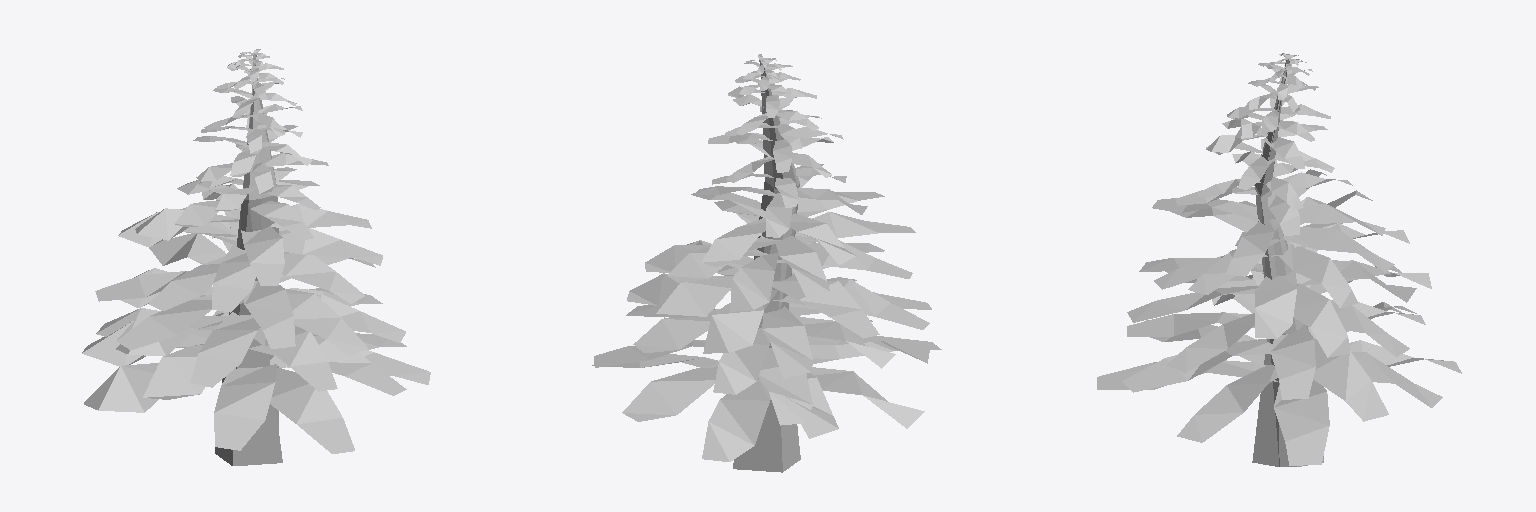
The model's file is tree2.obj.
The picture shows the model from 3 angles: view 1: azimuth 30°, elevation 25°; view 2: azimuth 150°, elevation 25°; view 3: azimuth 270°, elevation 25°; orthographic projection.
Visible parts, largest first — view 1: Cylinder_Cylinder.001; view 2: Cylinder_Cylinder.001; view 3: Cylinder_Cylinder.001.
Part boxes in pixels (bbox=[...]): Cylinder_Cylinder.001: bbox=[82, 49, 430, 465]; Cylinder_Cylinder.001: bbox=[592, 54, 941, 472]; Cylinder_Cylinder.001: bbox=[1097, 53, 1461, 466].
Size of the model in its own units: 13.47 by 16.37 by 13.53.